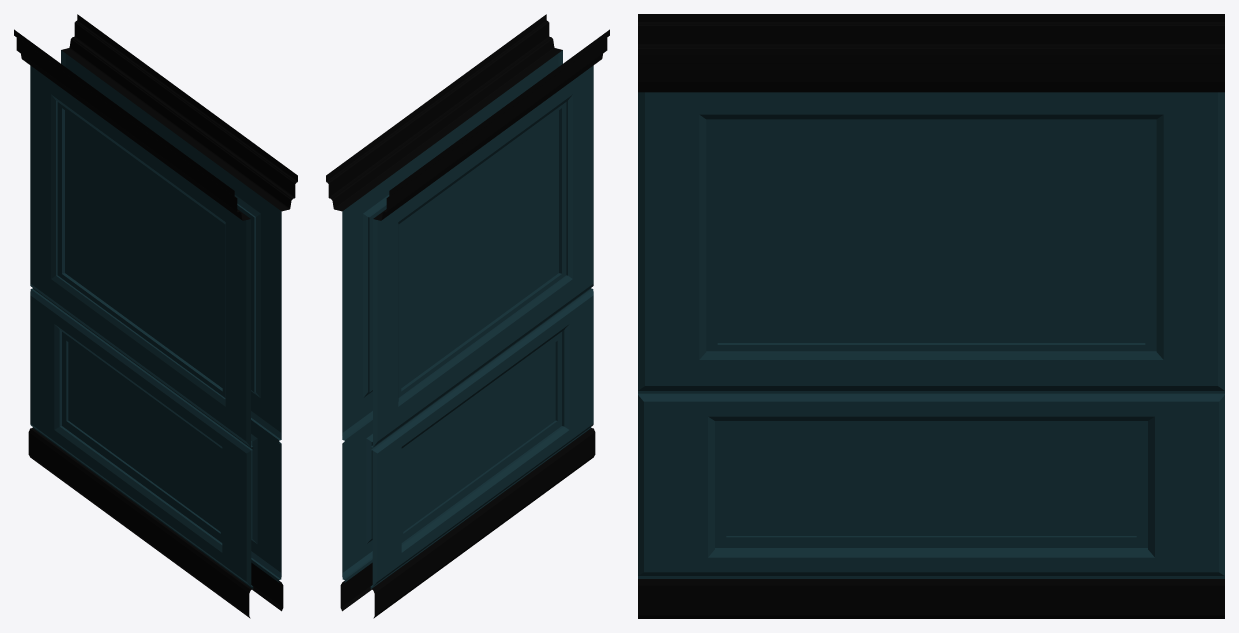
File: SM_Wall.fbx
3 renders of one model, left to right at view 1: azimuth 30°, elevation 25°; view 2: azimuth 150°, elevation 25°; view 3: azimuth 270°, elevation 25°, orthographic. The views are drawn at different scales.
Parts seen in each view (by area): view 1: polySurface127; view 2: polySurface127; view 3: polySurface127.
Boxes of the visible parts, x1,y1,x2,y2 form: polySurface127: [14, 14, 297, 618]; polySurface127: [326, 14, 609, 618]; polySurface127: [638, 14, 1224, 618].
Size of the model in its own units: 49.61 by 324 by 300.
